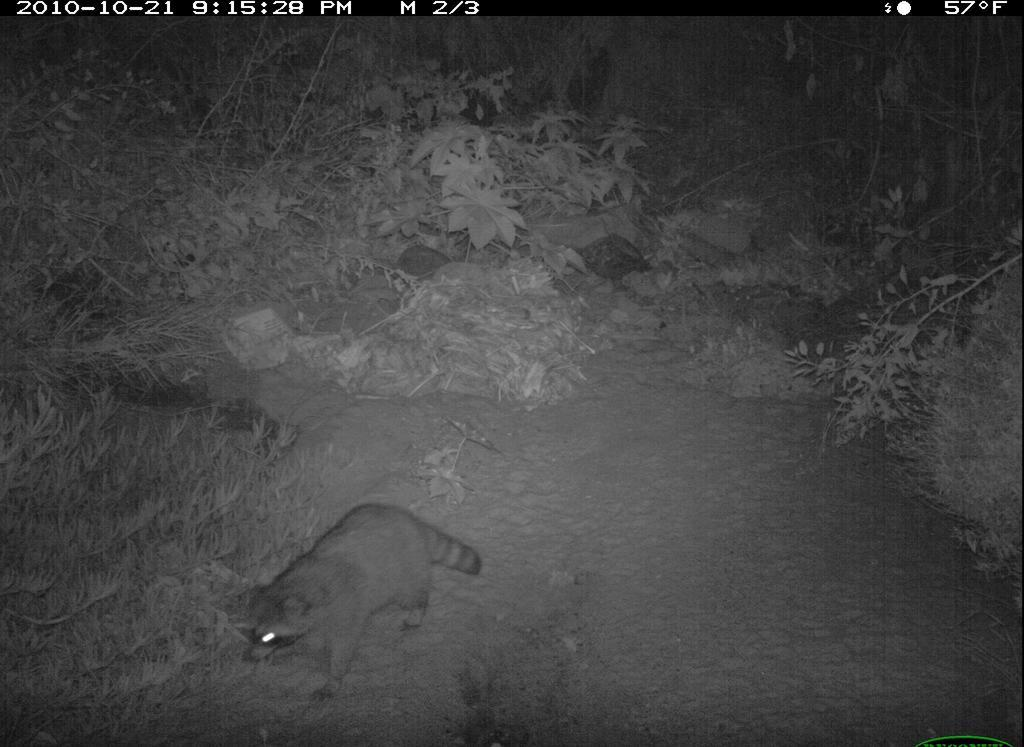raccoon: (236, 500, 486, 703)
